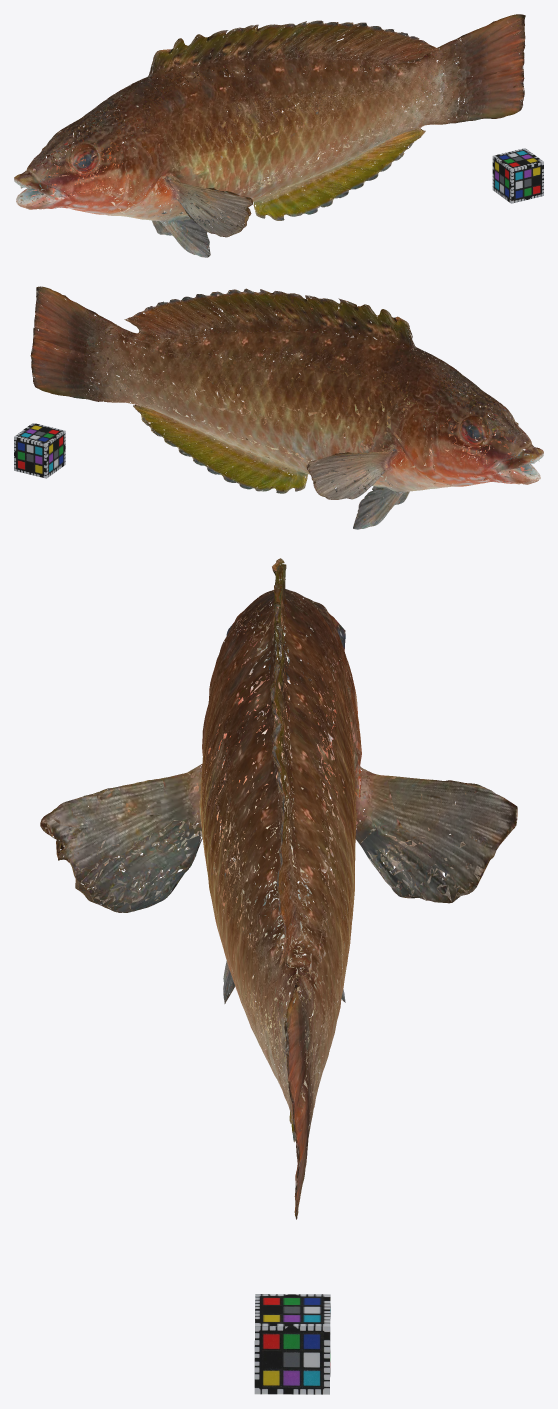
Rendered from scan_wrasse_bamboo.glb.
The picture shows the model from 3 angles, top to bottom: view 1: azimuth 30°, elevation 25°; view 2: azimuth 150°, elevation 25°; view 3: azimuth 270°, elevation 25°; orthographic projection. The views are drawn at different scales.
Parts seen in each view (by area): view 1: Object_11, Object_6, Object_4; view 2: Object_11, Object_6, Object_4; view 3: Object_11, Object_6, Object_4.
Boxes of the visible parts, x1,y1,x2,y2 form: Object_11: (14, 14, 524, 256); Object_6: (14, 14, 525, 257); Object_4: (492, 148, 543, 203); Object_11: (31, 286, 543, 529); Object_6: (30, 286, 543, 527); Object_4: (14, 423, 65, 478); Object_11: (40, 558, 517, 1218); Object_6: (40, 559, 517, 1219); Object_4: (254, 1294, 330, 1394).
Size of the model in its own units: 9.44 by 4.18 by 3.77.
Materials: 3 (3 with a texture image).
